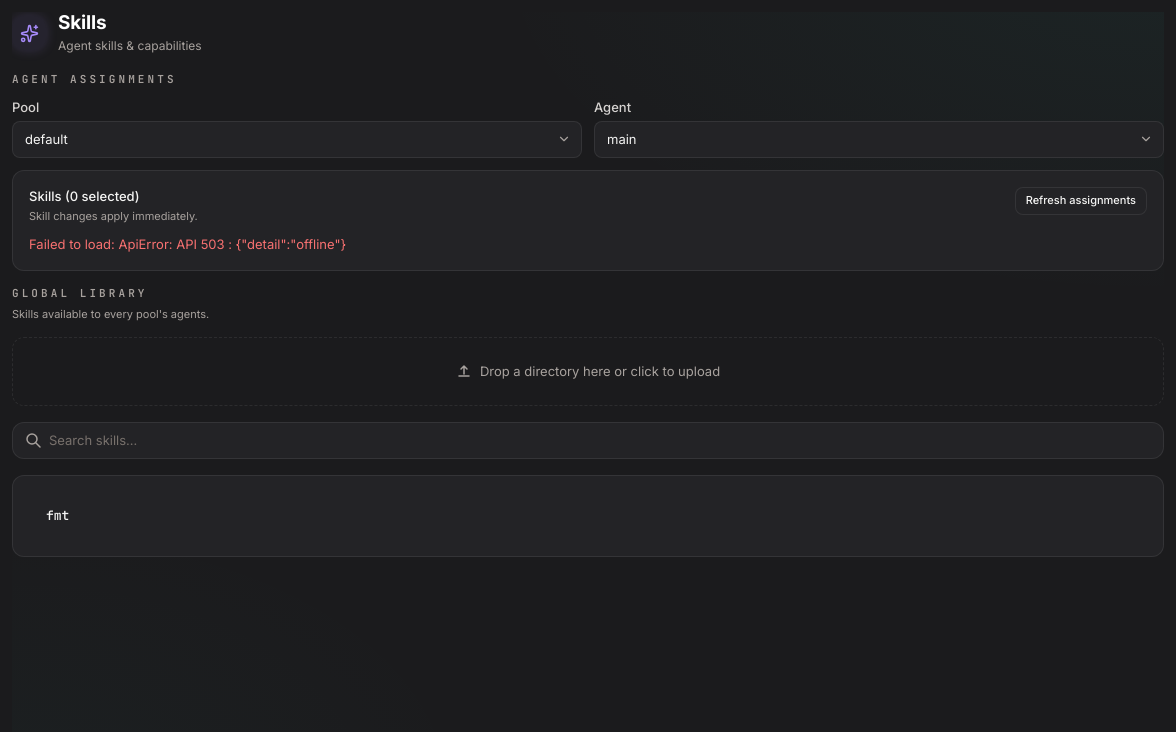
Test: GlobalSkillsView › shows assignment loading and errors, then retries with Refresh
This screenshot has width=1176, height=732.
Expected: the message shows "Failed to load", [29,236,346,252]
Click the button "Refresh assignments". click: (1081, 201)
box: [1015,187,1147,215]
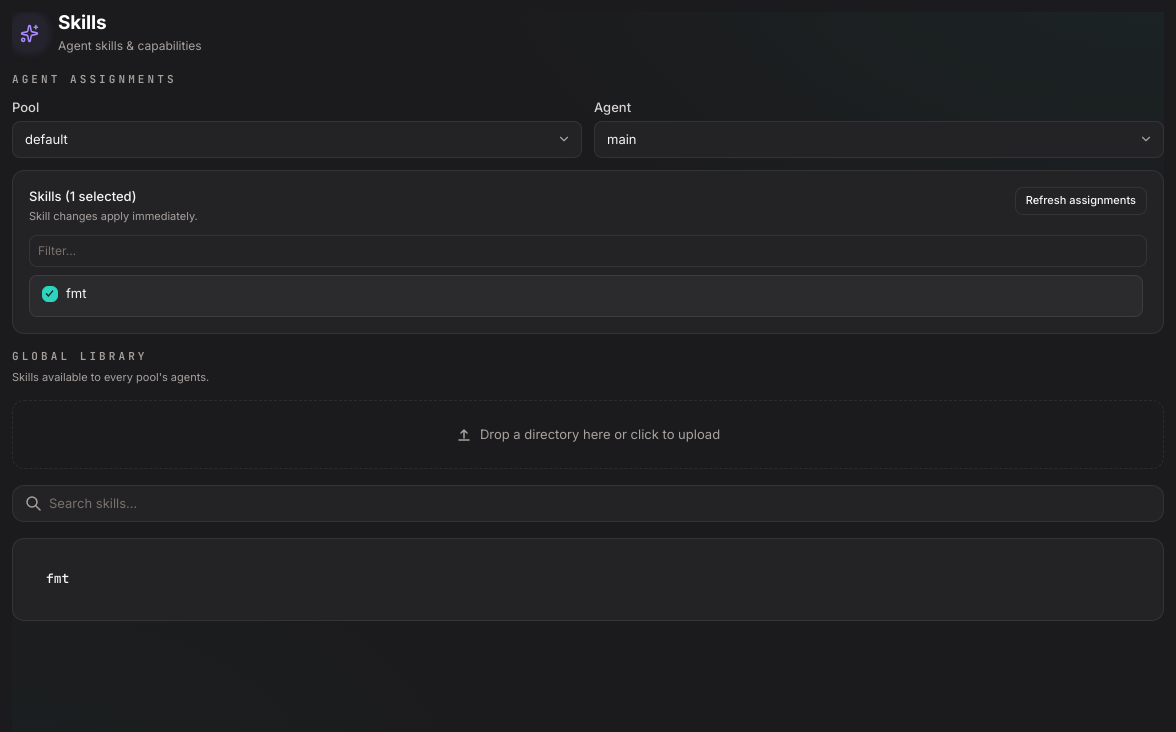
Now the checkbox labelled "fmt" is checked, box [42,286,58,302]
Now the message "Failed to load: ApiError: API 503 : {\"detail\":\"offline\"}" is gone
